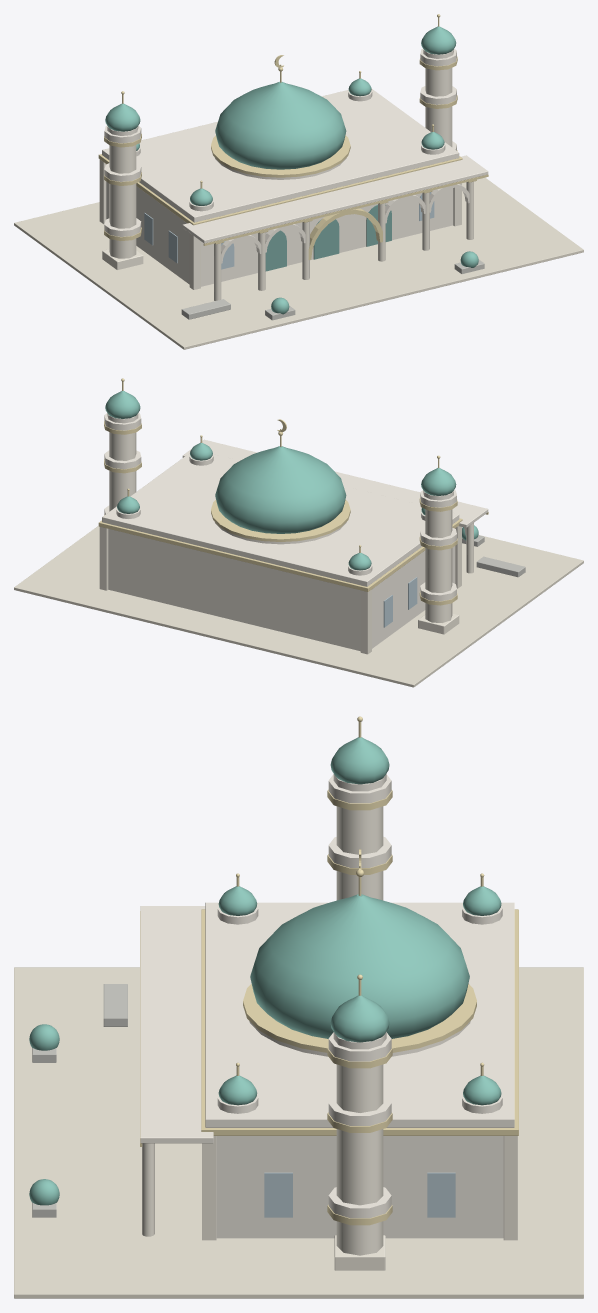
The model's file is LM_ENV_Masjid.glb.
3 views of the same model, one above another, from view 1: azimuth 30°, elevation 25°; view 2: azimuth 150°, elevation 25°; view 3: azimuth 270°, elevation 25° (orthographic). The views are drawn at different scales.
Visible parts, largest first — view 1: Masjid | Wall cream, Masjid | Plaza stone, Masjid | Dome teal, Masjid | Minaret cream, Masjid | Gold trim, Masjid | Door teal, Masjid | Grey stone, Masjid | Window glass; view 2: Masjid | Wall cream, Masjid | Plaza stone, Masjid | Dome teal, Masjid | Minaret cream, Masjid | Gold trim, Masjid | Grey stone, Masjid | Window glass; view 3: Masjid | Plaza stone, Masjid | Wall cream, Masjid | Dome teal, Masjid | Minaret cream, Masjid | Gold trim, Masjid | Window glass, Masjid | Grey stone.
Boxes of the visible parts, x1,y1,x2,y2 form: Masjid | Wall cream: (102,48,488,286); Masjid | Plaza stone: (14,177,583,349); Masjid | Dome teal: (105,26,478,314); Masjid | Minaret cream: (99,68,473,300); Masjid | Gold trim: (98,14,488,259); Masjid | Door teal: (265,205,391,271); Masjid | Grey stone: (181,259,484,320); Masjid | Window glass: (144,192,434,269); Masjid | Wall cream: (102,413,488,651); Masjid | Plaza stone: (14,526,583,687); Masjid | Dome teal: (105,391,478,570); Masjid | Minaret cream: (99,432,473,654); Masjid | Gold trim: (98,378,488,605); Masjid | Grey stone: (462,535,525,577); Masjid | Window glass: (383,577,417,627); Masjid | Plaza stone: (14,967,583,1298); Masjid | Wall cream: (140,774,514,1238); Masjid | Dome teal: (29,737,501,1205); Masjid | Minaret cream: (142,806,517,1270); Masjid | Gold trim: (140,716,518,1225); Masjid | Window glass: (264,1172,455,1217); Masjid | Grey stone: (32,984,127,1217).
Bounding box in the file's own units: 38 × 15.79 × 28.
